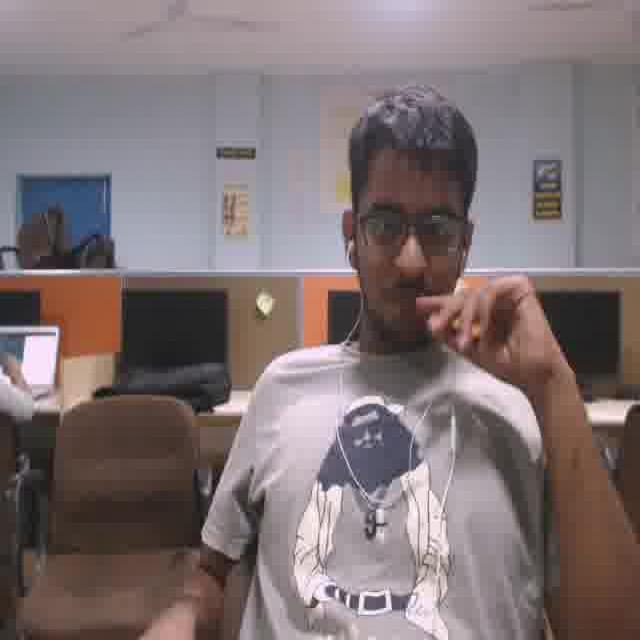Confusion: (353, 149, 468, 340)
